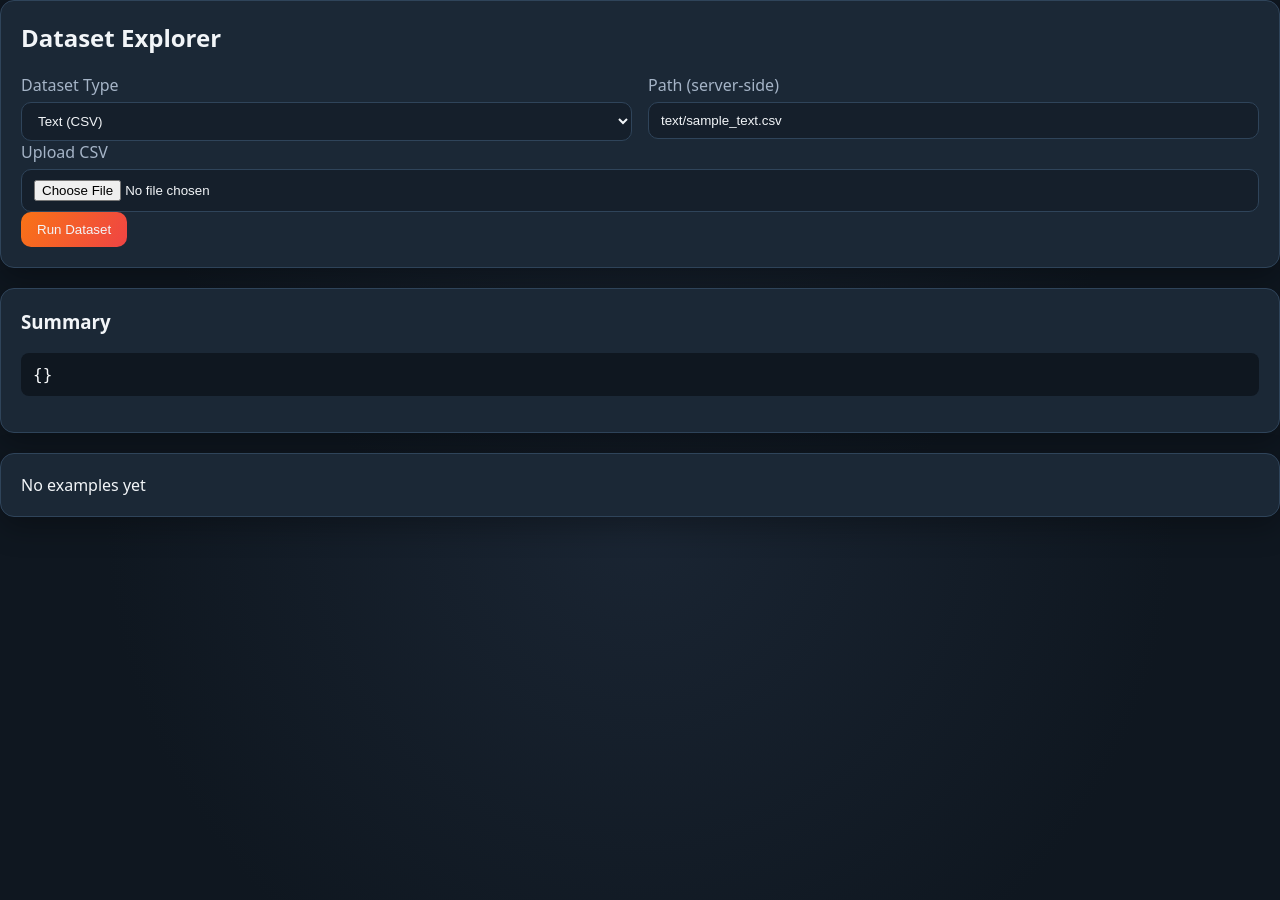
dataset failures stop polling and restore the Run button
Click the button "Run Dataset" at (74, 229), box x1=21 y1=212 x2=127 y2=247
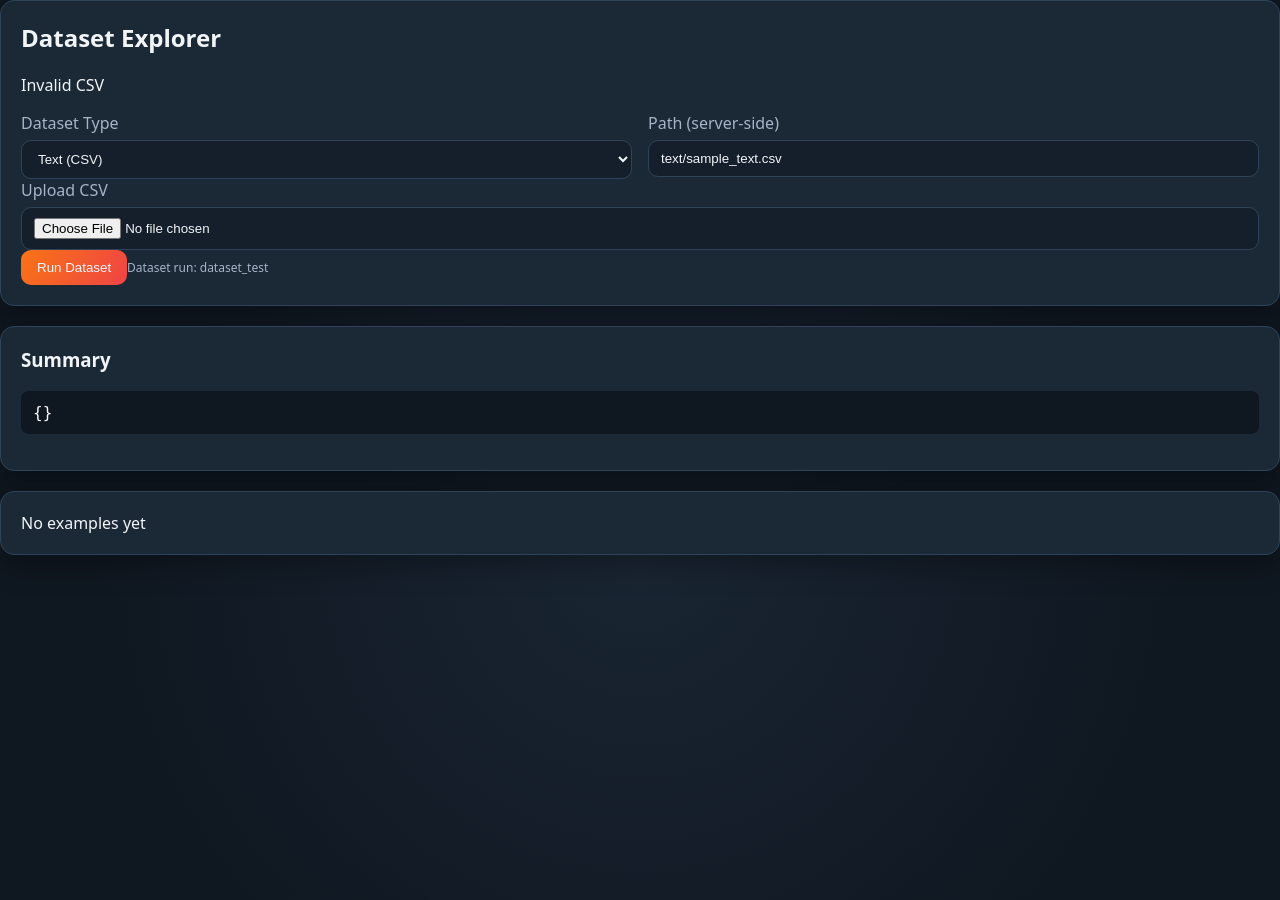
Expected: the button "Run Dataset" is enabled, x1=21 y1=250 x2=127 y2=285
Result: the message reads "Invalid CSV" at x1=21 y1=74 x2=104 y2=96
